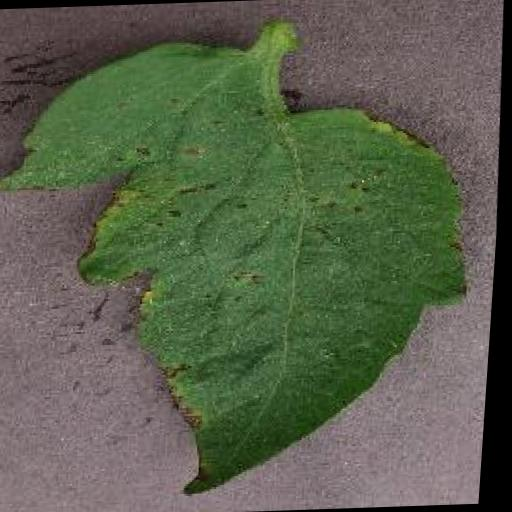Bacterial Spot: (0, 29, 496, 507)
